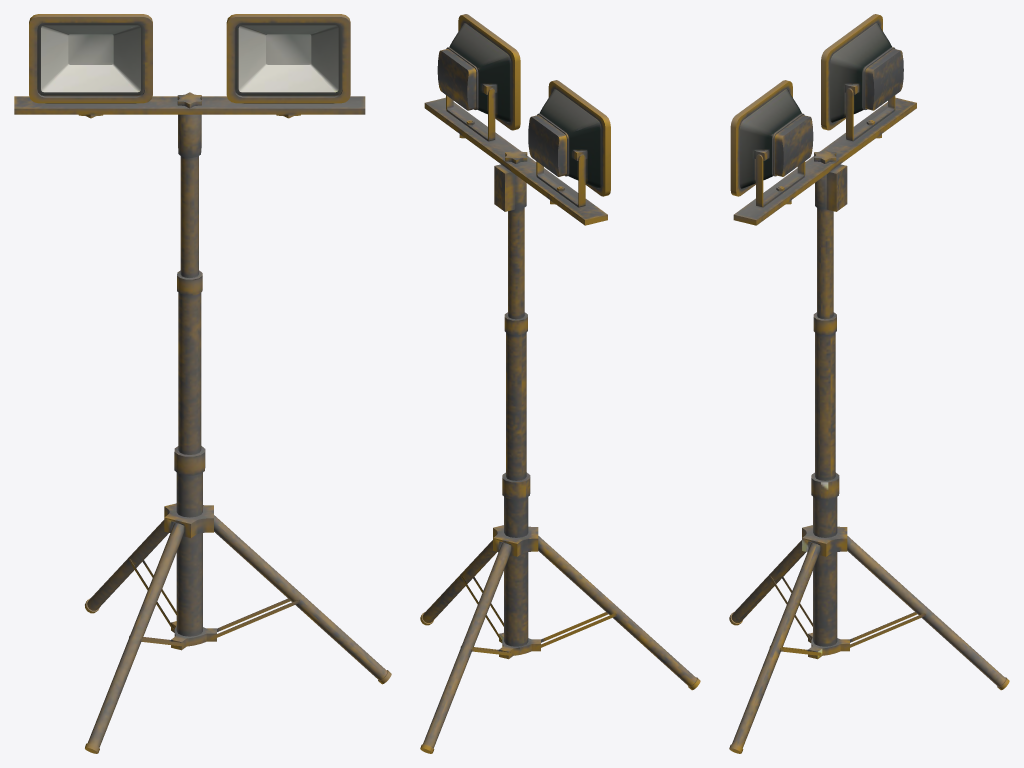
File: tripod_light.gltf
3 renders of one model, left to right at view 1: azimuth 30°, elevation 25°; view 2: azimuth 150°, elevation 25°; view 3: azimuth 270°, elevation 25°, orthographic. The views are drawn at different scales.
Visible parts, largest first — view 1: Plane.006; view 2: Plane.006; view 3: Plane.006.
Part boxes in pixels (bbox=[...]): Plane.006: bbox=[14, 14, 391, 753]; Plane.006: bbox=[420, 14, 700, 753]; Plane.006: bbox=[729, 14, 1009, 753].
Size of the model in its own units: 1.19 by 2.54 by 1.04.
1 material, 1 textured.
